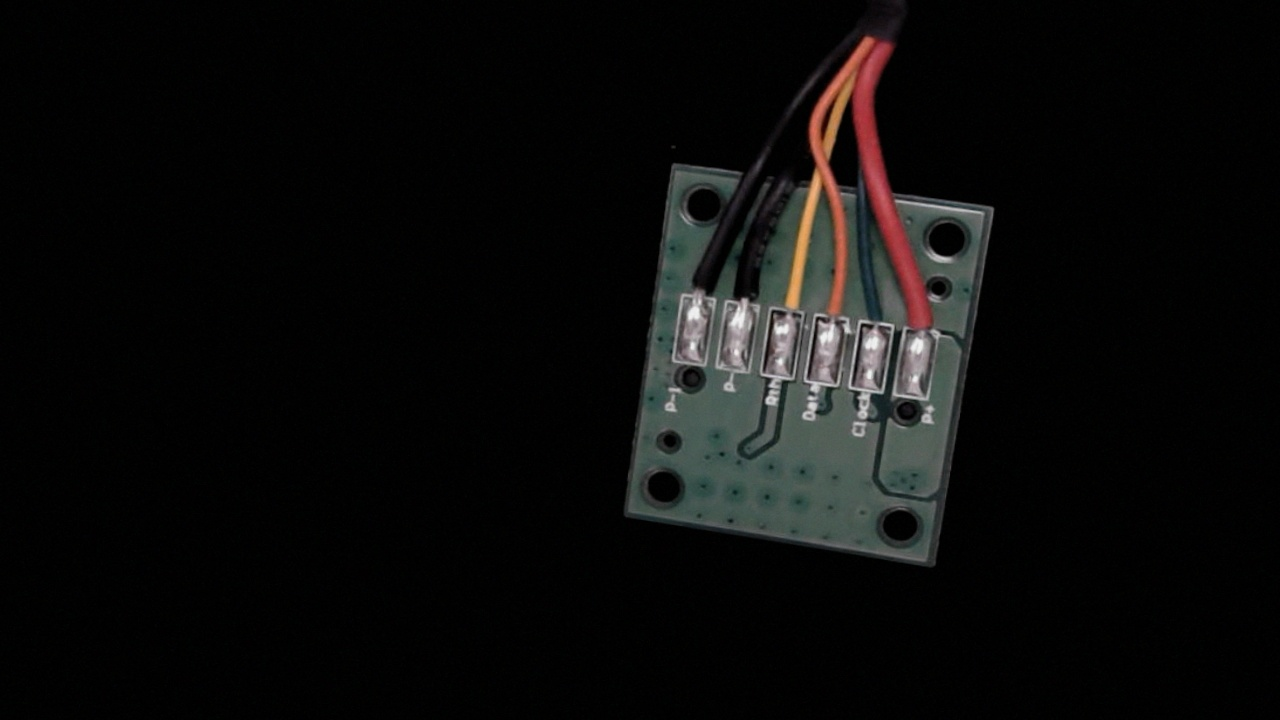Black: (719, 238, 772, 325)
Black1: (675, 238, 725, 318)
Green: (851, 270, 900, 346)
Orange: (811, 252, 862, 337)
Red: (901, 267, 953, 350)
Yellow: (766, 244, 818, 332)
